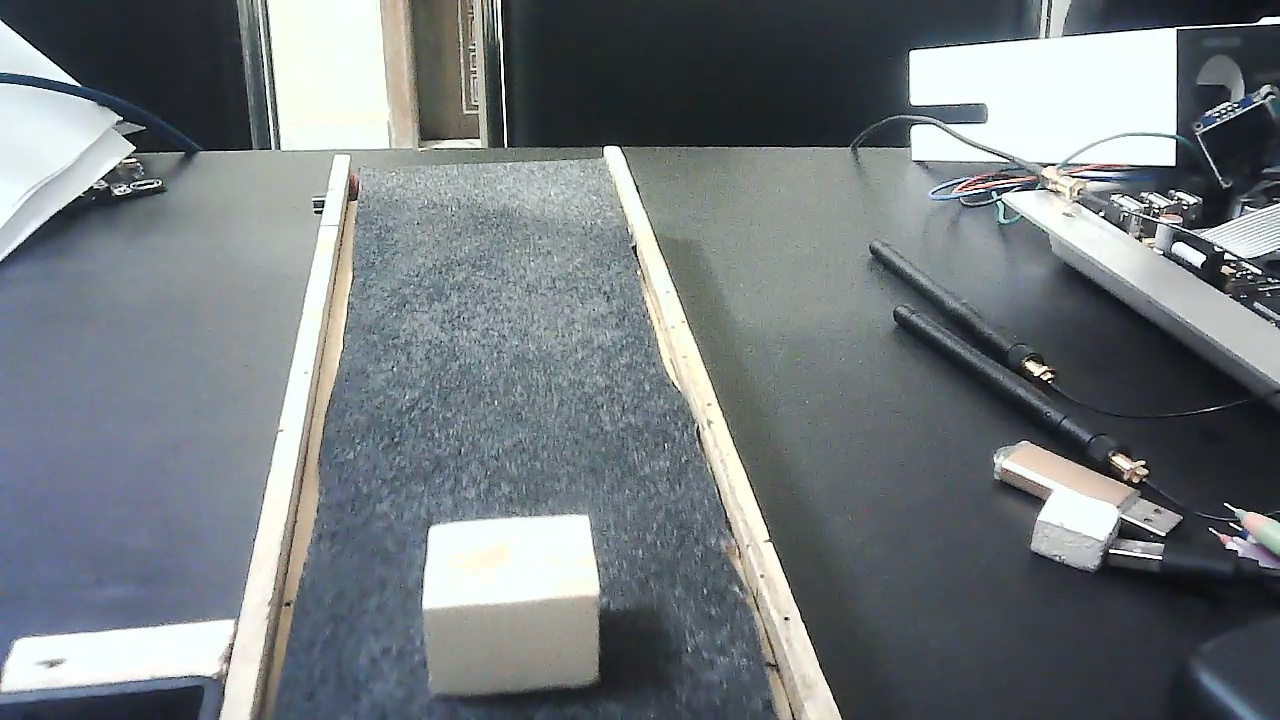Medium: (421, 514, 601, 694)
